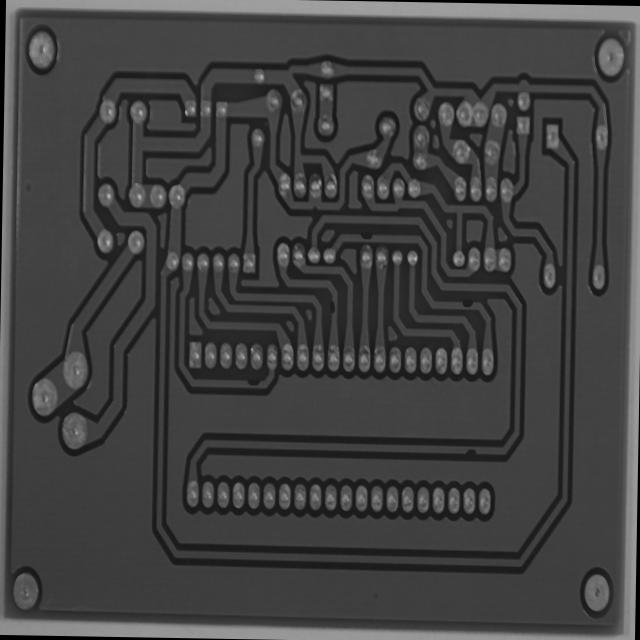mouse_bite: (460, 442, 479, 460), (324, 296, 338, 318), (358, 227, 376, 244), (458, 294, 476, 311), (243, 373, 261, 390)
